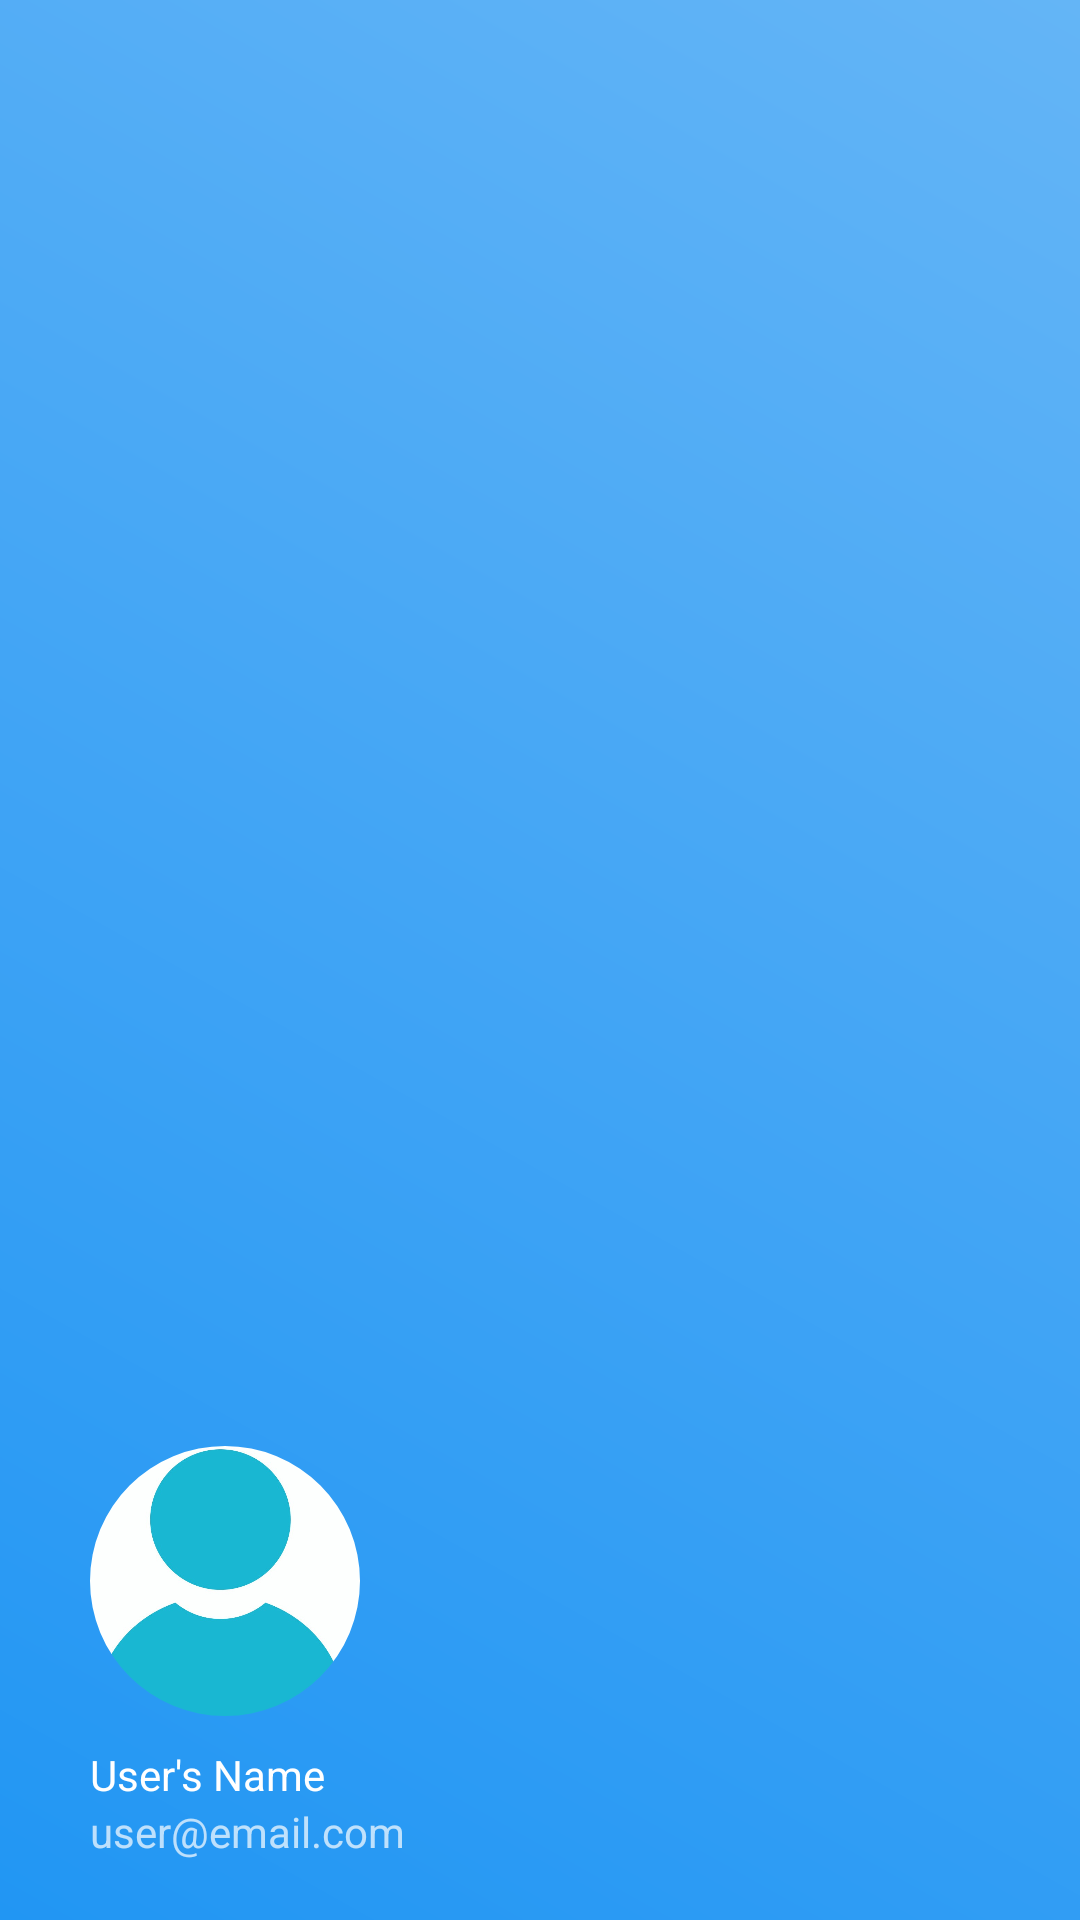

Where icons sit on this 1080px x 1920px app screen, as [x1,y1,x2,y2]:
user profile: [90,1446,360,1716]
